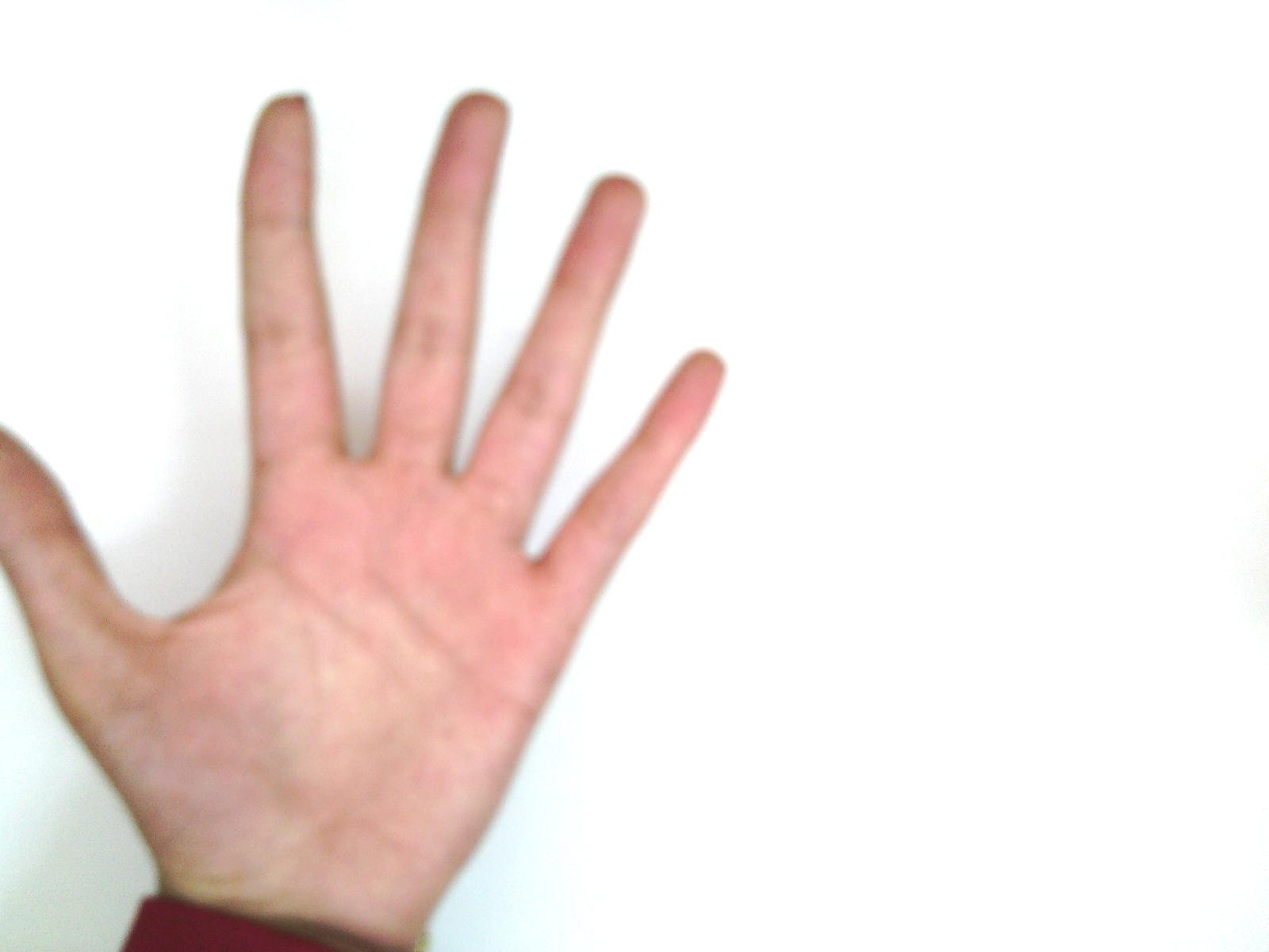open_palm: (4, 88, 730, 945)
